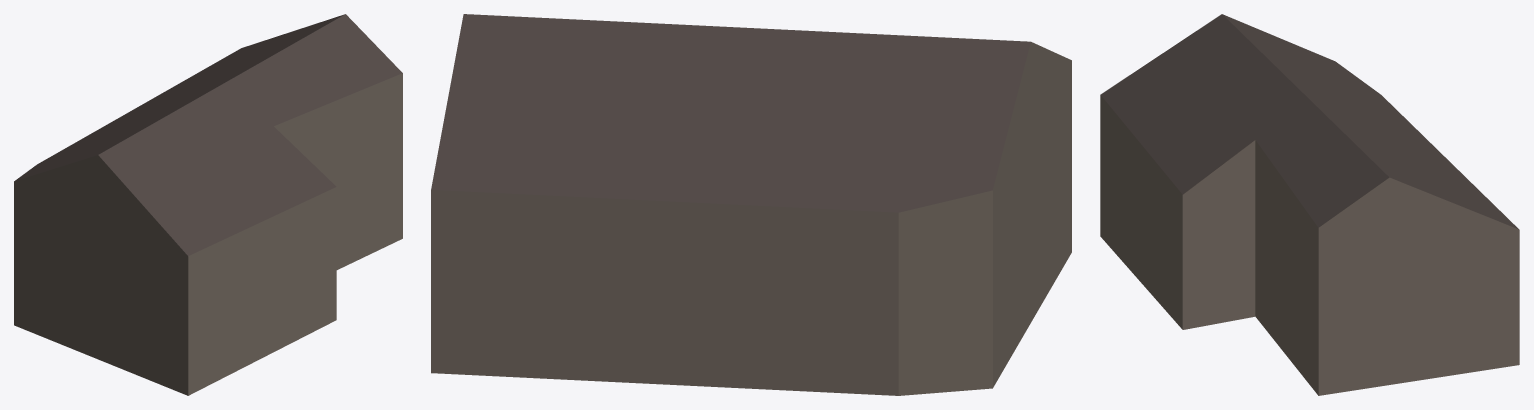
3 views of the same model, side by side, from view 1: azimuth 30°, elevation 25°; view 2: azimuth 150°, elevation 25°; view 3: azimuth 270°, elevation 25° (orthographic). The views are drawn at different scales.
Visible parts, largest first — view 1: HP-w757502024; view 2: HP-w757502024; view 3: HP-w757502024.
Boxes of the visible parts, x1,y1,x2,y2 form: HP-w757502024: [14, 14, 402, 395]; HP-w757502024: [431, 14, 1071, 395]; HP-w757502024: [1100, 14, 1519, 395].
Bounding box in the file's own units: 26.87 × 13.81 × 25.27.
